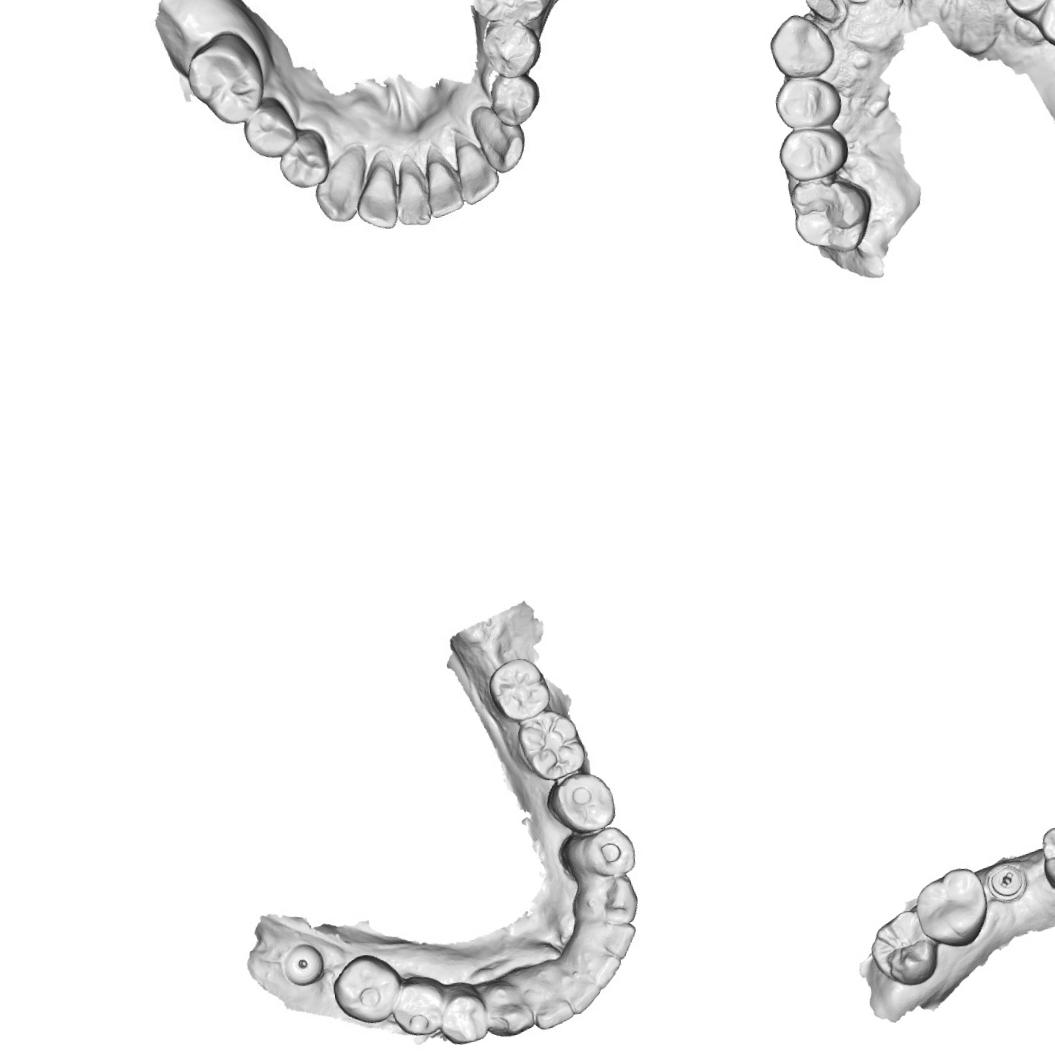canine: (764, 8, 838, 84), (314, 150, 373, 221), (578, 872, 640, 932), (472, 104, 526, 170), (480, 978, 536, 1038)
crown: (799, 0, 846, 31)
implant: (280, 938, 328, 990)
implant_minus: (984, 860, 1032, 906)
incisor: (354, 150, 402, 234), (450, 132, 497, 202), (391, 156, 432, 224), (423, 147, 465, 210), (592, 916, 642, 963), (562, 968, 607, 1017), (530, 986, 575, 1032), (582, 947, 626, 990)
molar: (786, 170, 880, 260), (182, 32, 268, 124), (908, 864, 995, 954), (863, 903, 941, 992), (482, 653, 558, 729), (329, 949, 402, 1028), (514, 709, 586, 784), (470, 0, 558, 23)
premolar: (768, 70, 848, 136), (774, 122, 854, 185), (548, 769, 619, 836), (569, 822, 643, 886), (390, 972, 452, 1046), (482, 21, 542, 78), (437, 986, 491, 1046), (274, 133, 330, 187), (488, 70, 542, 124), (243, 105, 294, 158), (1033, 819, 1055, 894), (996, 0, 1055, 20), (1031, 0, 1055, 49)
